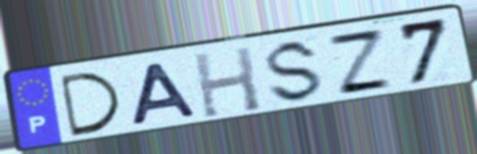7: (398, 15, 452, 88)
A: (130, 60, 202, 128)
D: (55, 69, 126, 139)
H: (190, 44, 264, 120)
S: (264, 37, 327, 106)
Z: (324, 27, 397, 97)
